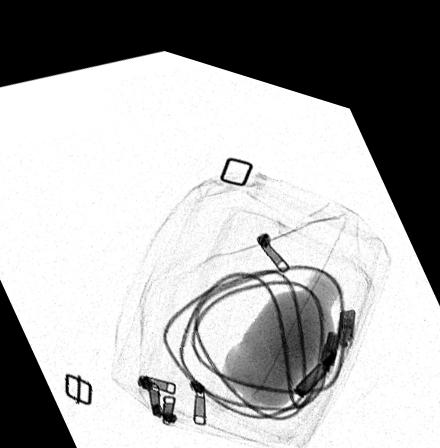Bullet: (292, 327, 338, 380)
